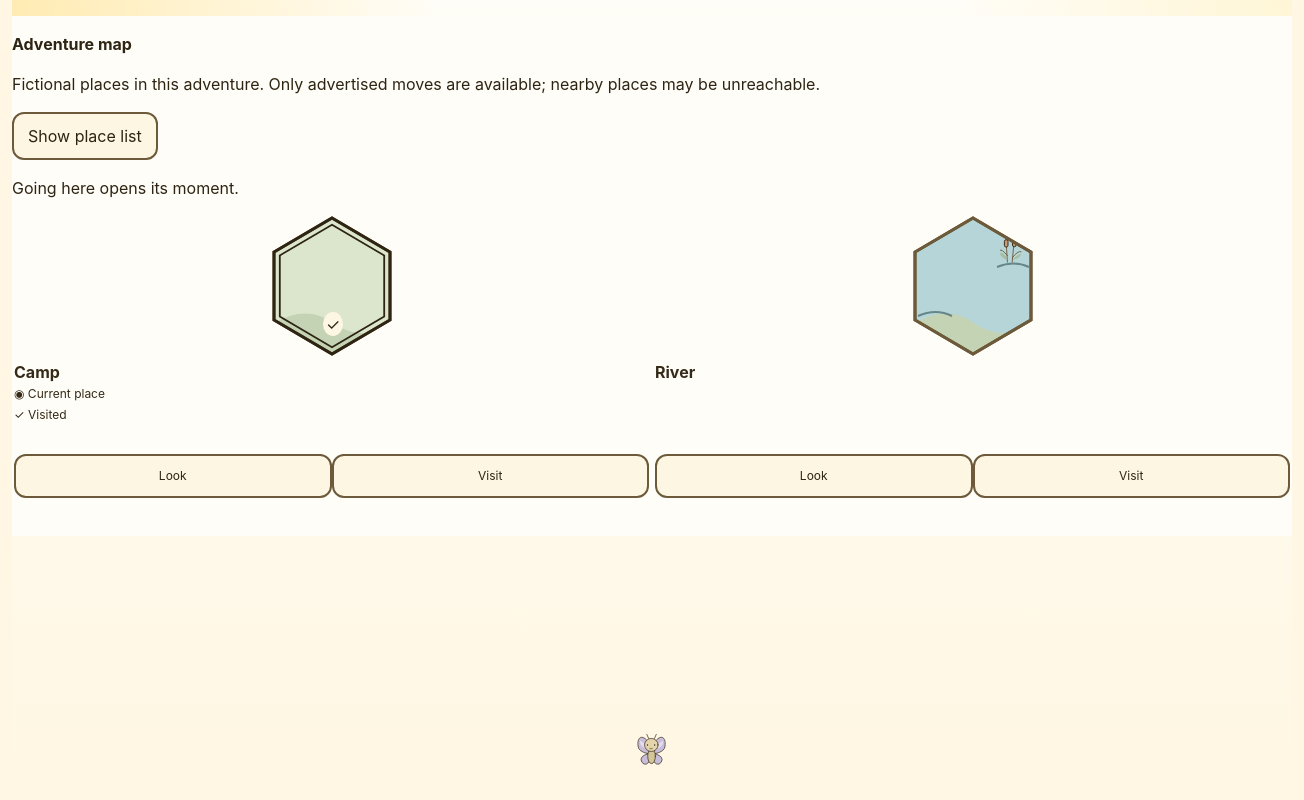
Test: shows exactly one board with one normalized player, with list parity and read-only inspection
Later steps or results of the test are not shown.
Check: the number of list items with class "game-board-player" is 1, box top-left (634, 729), bottom-right (670, 770)
Step 1. Click the button "Look" below "River" → {"x": 814, "y": 476}, box top-left (655, 454), bottom-right (972, 498)
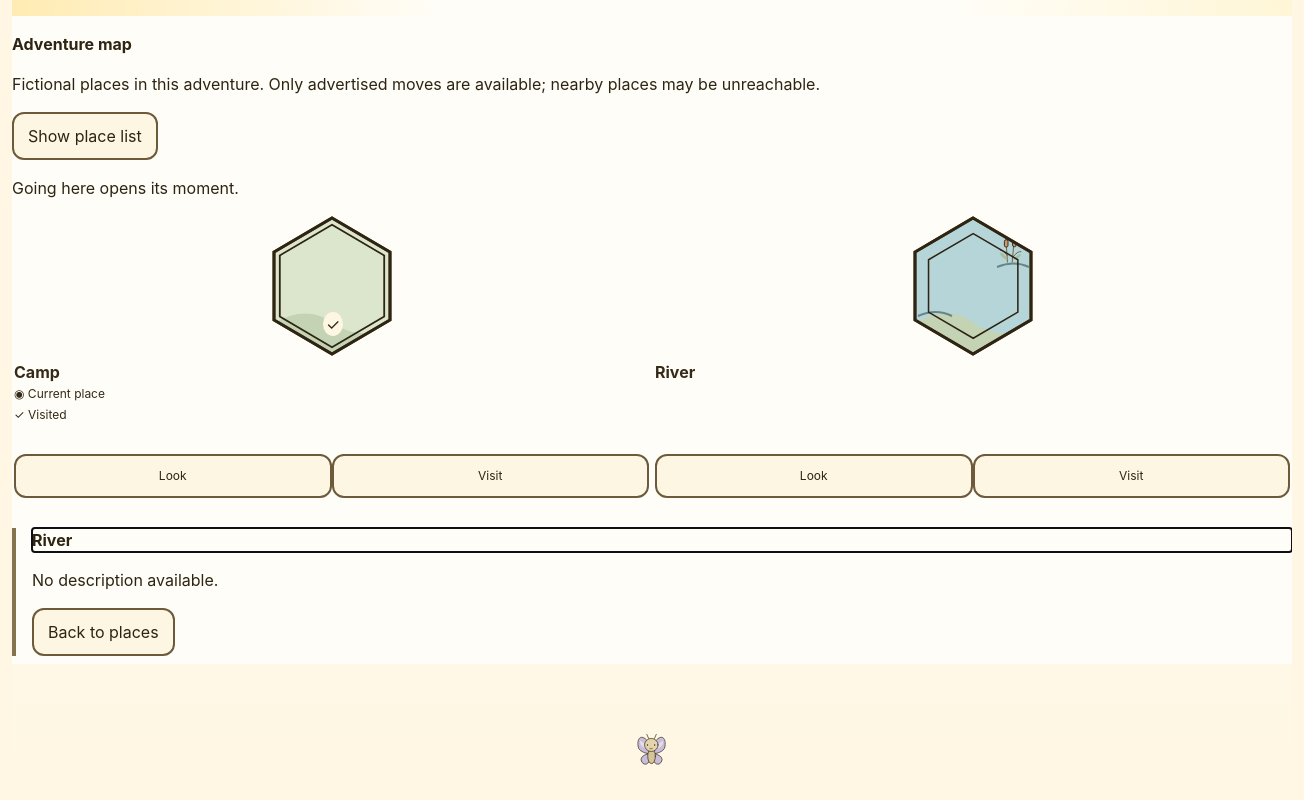
Step 2. Click the button "Back to places" → {"x": 103, "y": 632}, box top-left (32, 608), bottom-right (175, 656)
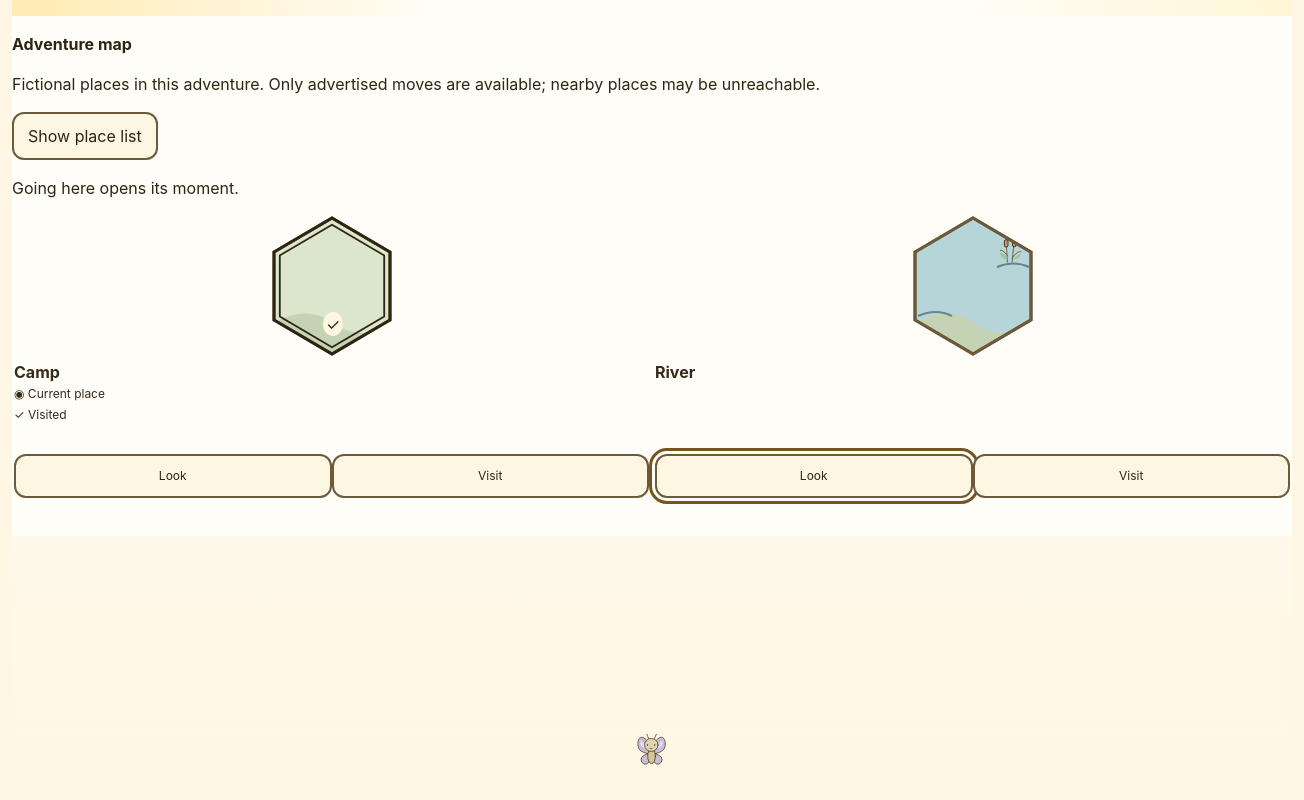
Step 3. Click the button "Show place list" → {"x": 85, "y": 136}, box top-left (12, 112), bottom-right (158, 160)
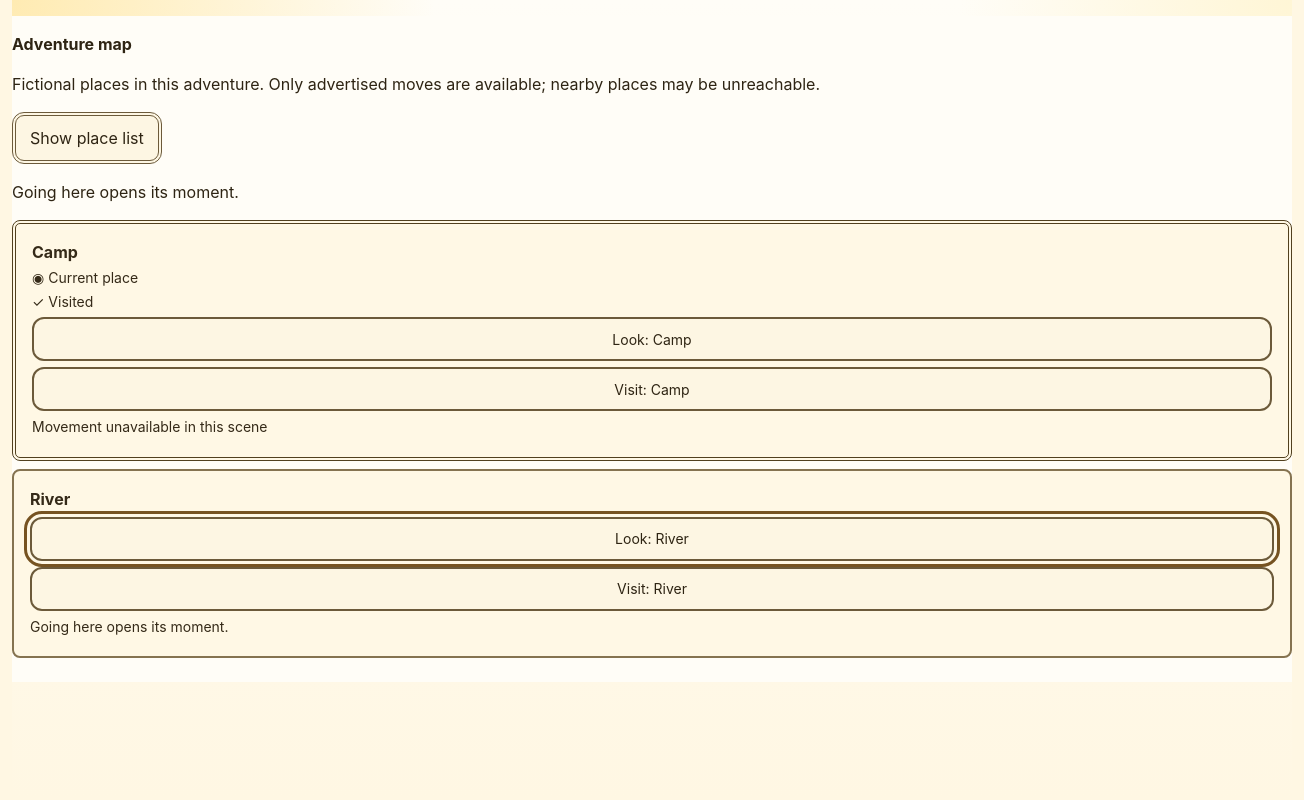
Check: the list item with class "game-board-player" is gone
